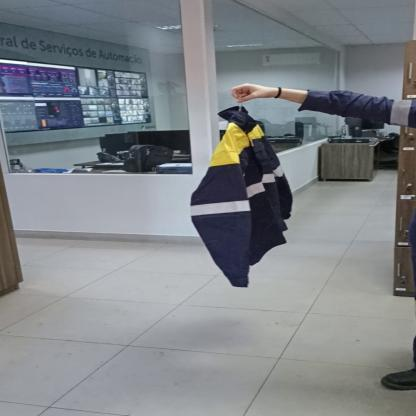C_eletrica: (186, 110, 299, 288)
